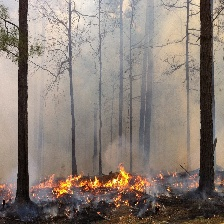fire: (3, 162, 223, 211)
smoke: (30, 1, 197, 163)
